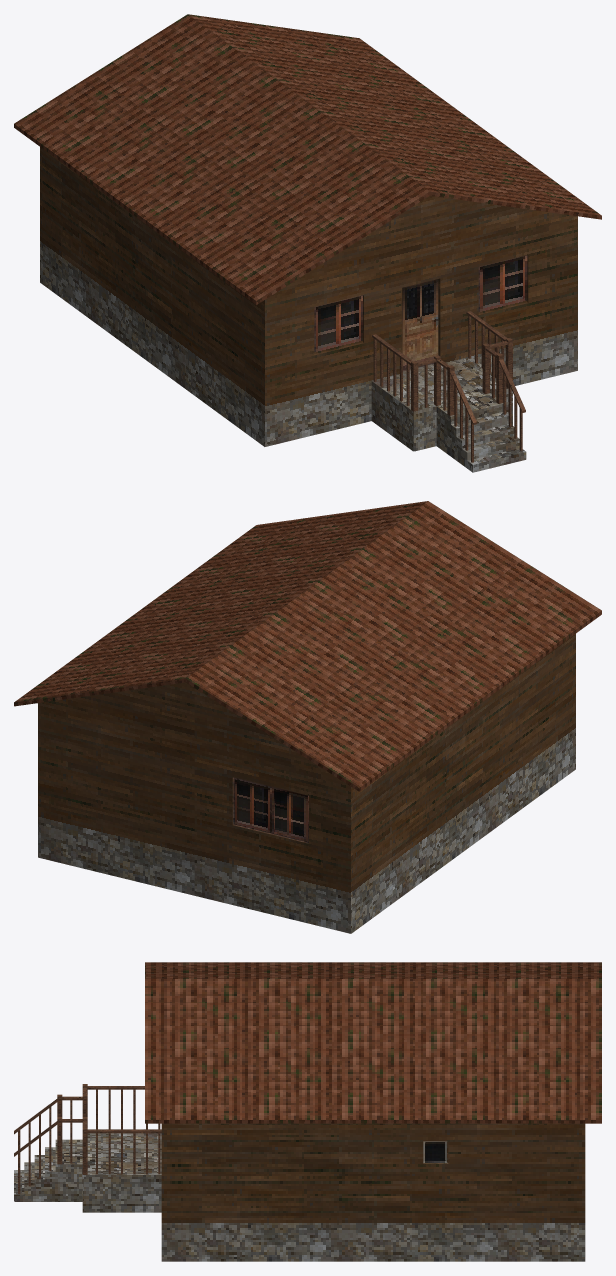
The model's file is house1.glb.
The picture shows the model from 3 angles, top to bottom: view 1: azimuth 30°, elevation 25°; view 2: azimuth 150°, elevation 25°; view 3: azimuth 270°, elevation 25°; orthographic projection. The views are drawn at different scales.
Visible parts, largest first — view 1: house12, house1_windows, house1_door1; view 2: house12, house1_windows; view 3: house12, house1_windows.
Boxes of the visible parts, x1=… form: house12: x1=14, y1=14, x2=601, y2=472; house1_windows: x1=314, y1=255, x2=528, y2=354; house1_door1: x1=402, y1=279, x2=438, y2=371; house12: x1=14, y1=501, x2=601, y2=933; house1_windows: x1=232, y1=777, x2=308, y2=843; house12: x1=14, y1=962, x2=601, y2=1261; house1_windows: x1=423, y1=1141, x2=448, y2=1163.
Bounding box in the file's own units: 9.05 × 5.6 × 14.15.
7 materials, 7 textured.
